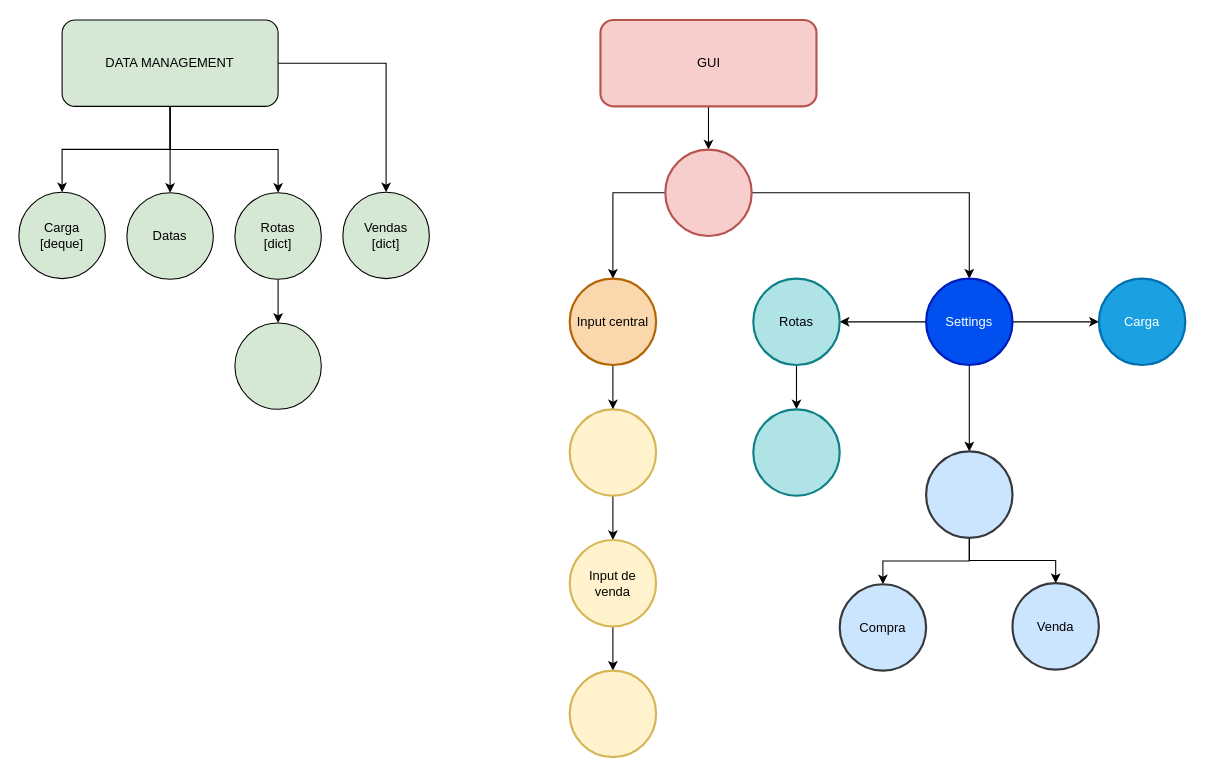
Some shapes in this 1205 by 777 pixel diagram are drawn without their labels. Here are the shapes that lost their labels. From the top down, the centre of each, then its label:
At (x=708, y=192): "Main Menu".
At (x=277, y=365): "Clientes [list]".
At (x=612, y=452): "Seleção de data e cliente".
At (x=796, y=452): "Clientes".
At (x=968, y=494): "Preços".
At (x=612, y=713): "Confirmar input".
